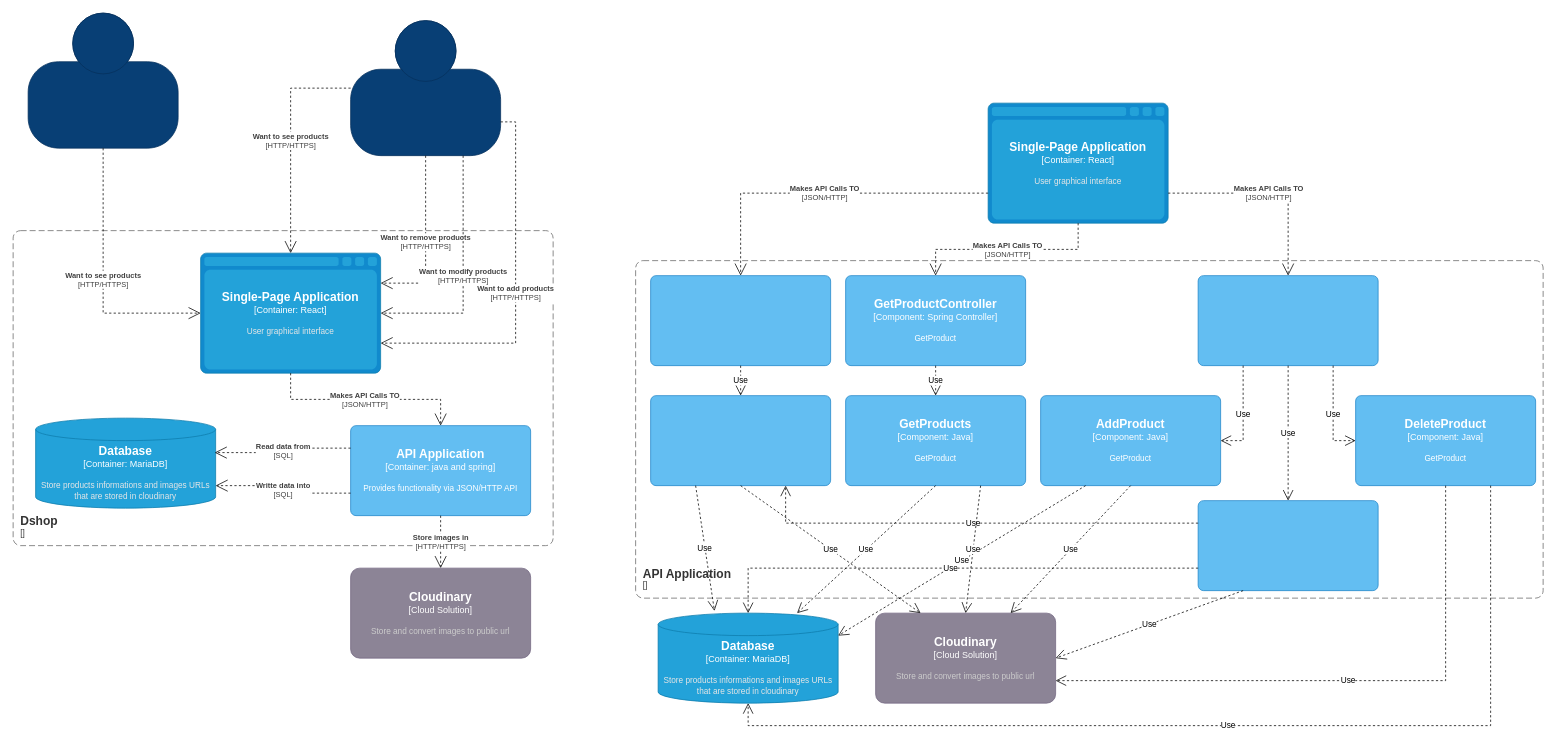
Image size: 1556x749. Some labels were removed from this diagram. The shapes that lost their labels are listed below. From the top down, each one's centre as x and y in pixels, then its label:
(x=102, y=80): User [typical user]
(x=425, y=88): Admin [person who manage products]
(x=740, y=320): GetProductsController [Component: Spring Controller] Allow to contact
(x=1287, y=320): ProductManagementController [Component: Spring Controller] GetProduct
(x=740, y=440): GetProduct [Component: Java] GetProduct
(x=1287, y=545): ModfyProduct [Component: Java] GetProduct
